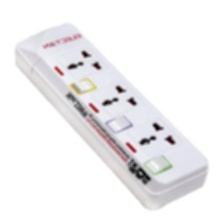three_eye_plug: (10, 18, 212, 211)
